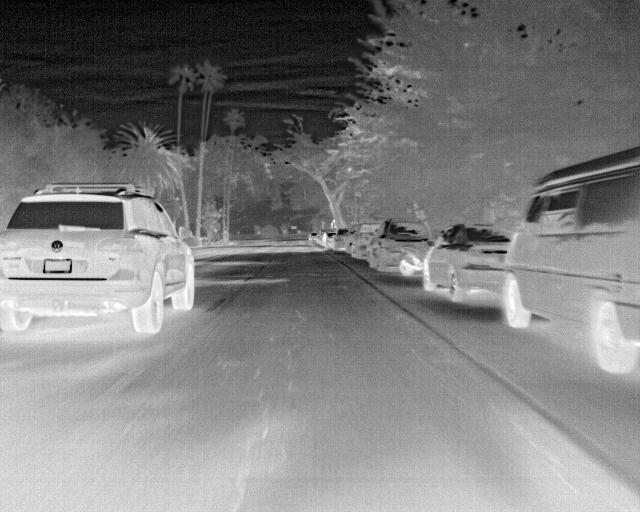car: (504, 145, 638, 376), (0, 182, 198, 334), (421, 222, 505, 308), (372, 220, 424, 272), (353, 222, 377, 261), (336, 225, 353, 251), (320, 229, 337, 247), (308, 229, 321, 245)
